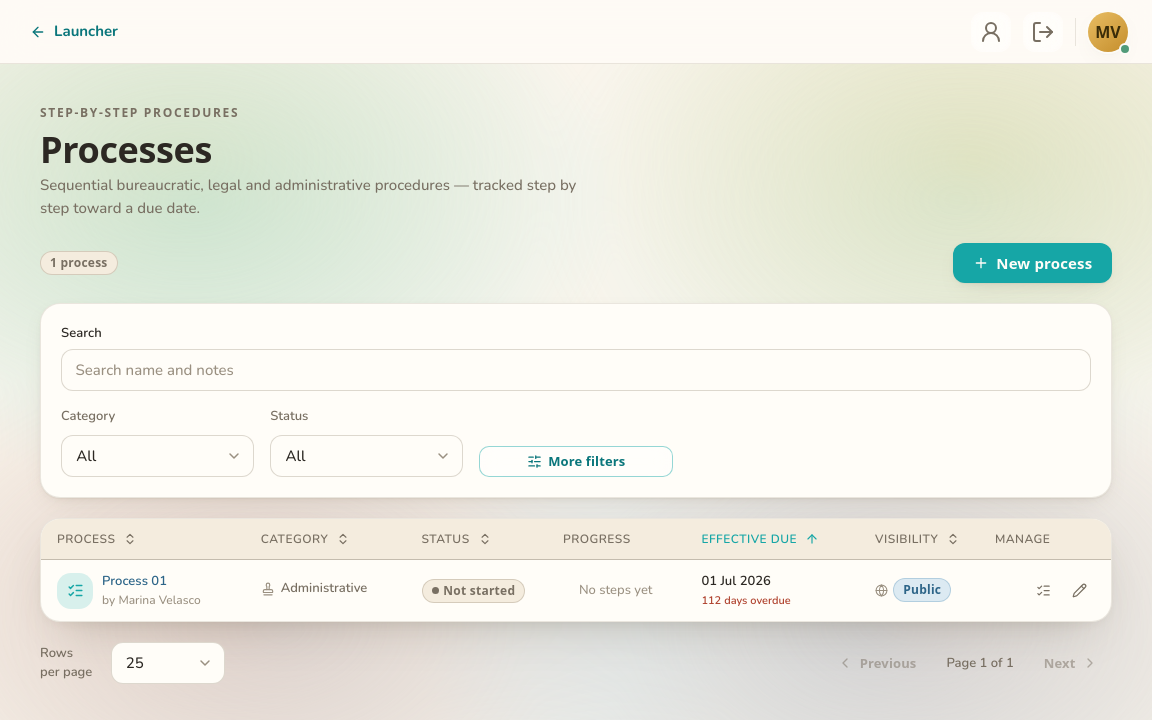
it: Processes page › validates required fields before submission
Check: the button "Process 01" is shown, box [102, 572, 201, 591]
Click the button "New process" at {"x": 1033, "y": 263}, box [953, 243, 1112, 283]
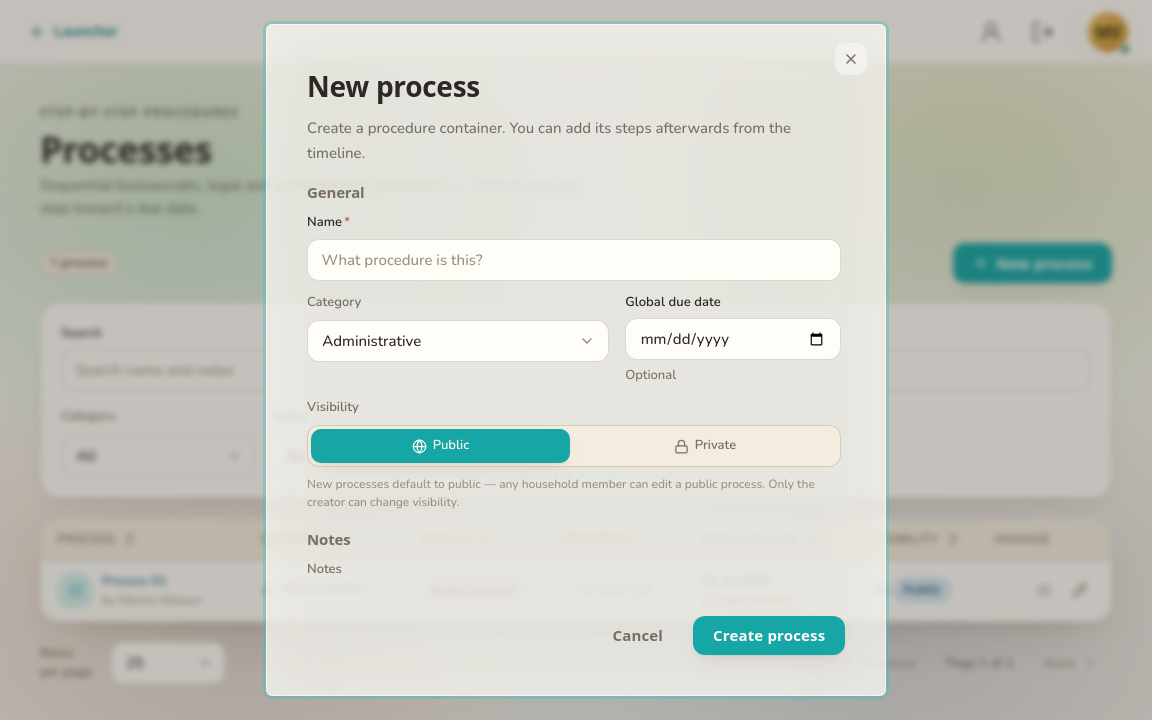
Clear the field labelled "Name" at {"x": 574, "y": 260}, box [322, 240, 826, 278]
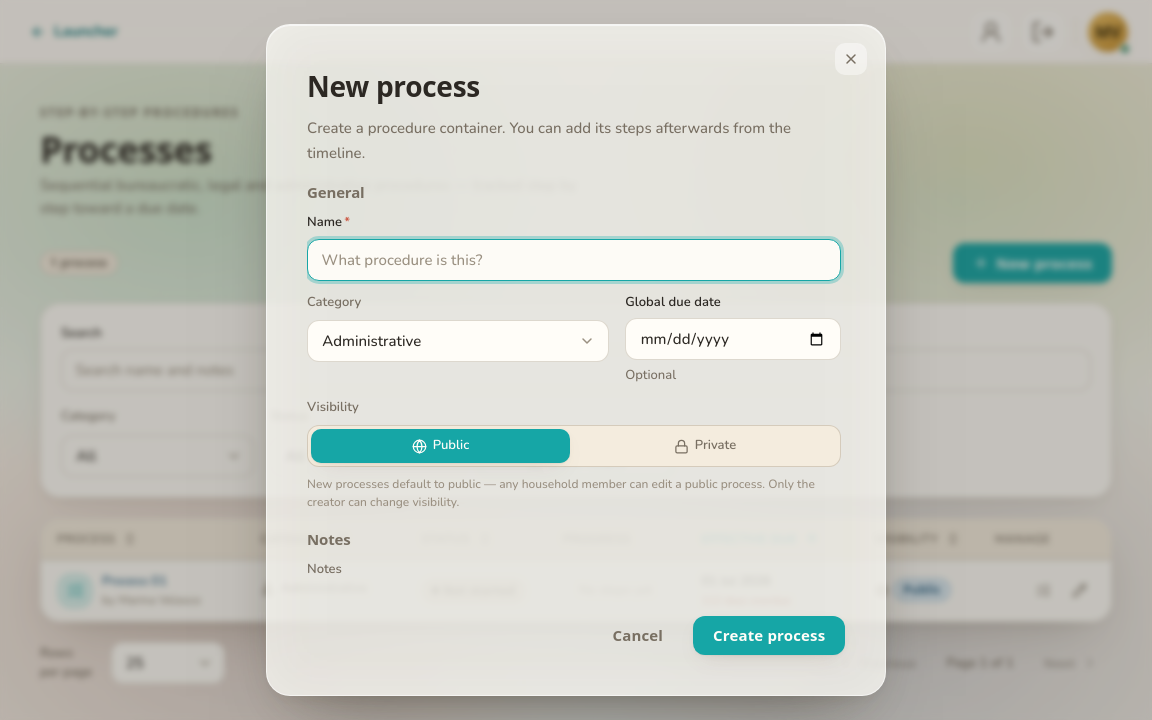
Click the button "Create process" at {"x": 769, "y": 636}, box [693, 616, 845, 655]
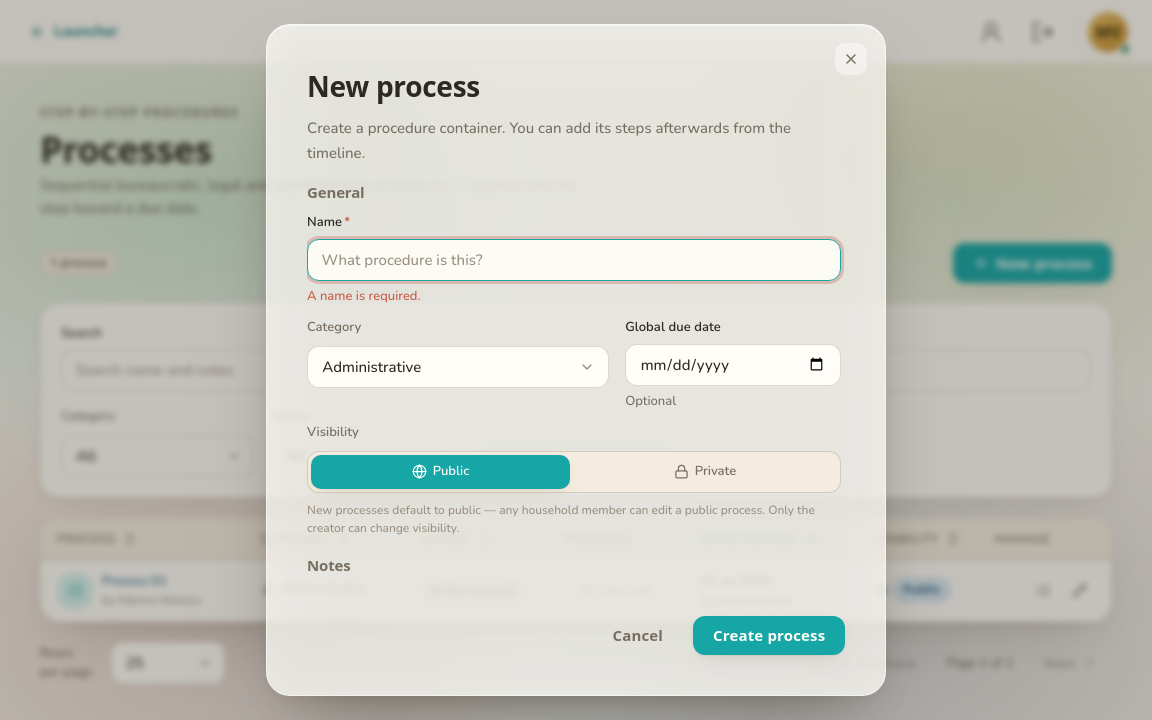
Check: the text "A name is required." is shown, box [307, 286, 420, 304]
